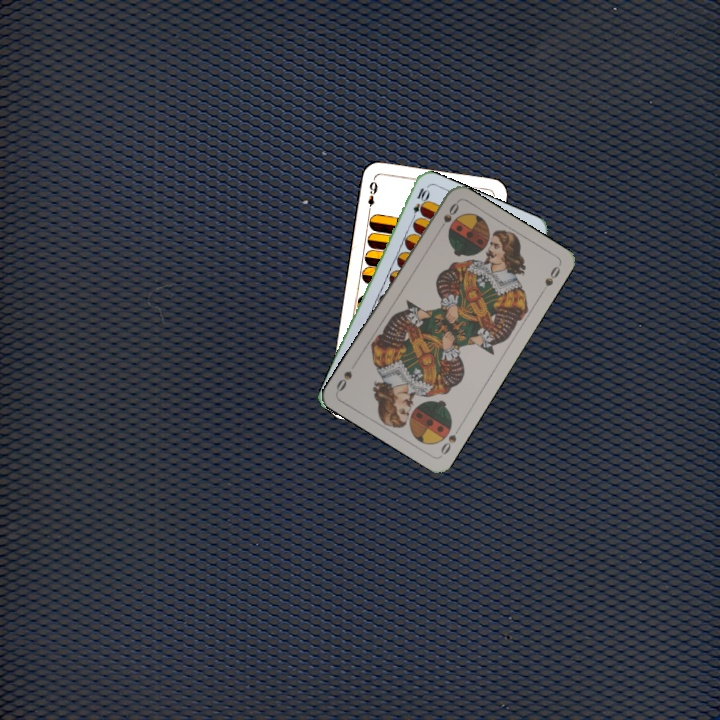E10: (407, 184, 431, 224)
E9: (364, 176, 380, 216)
SO: (434, 199, 462, 235), (437, 422, 464, 457)
